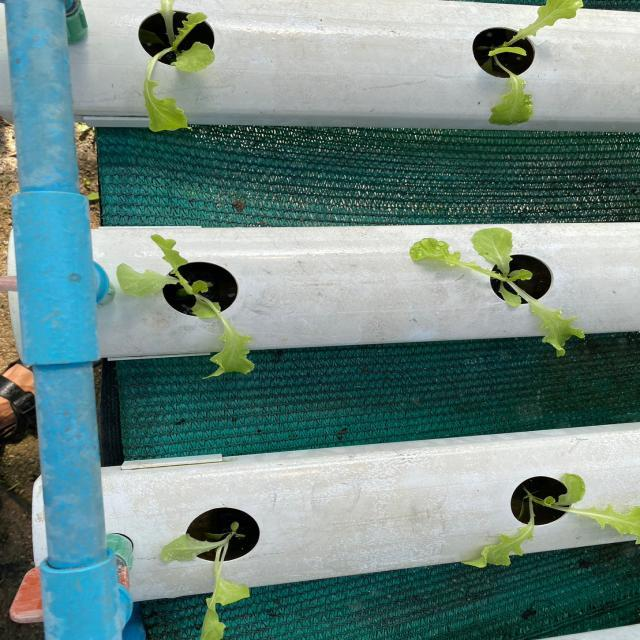Lettuce-Not-Ready-to-Harvest: (403, 227, 588, 357), (115, 230, 261, 378), (453, 465, 640, 572), (485, 0, 584, 130), (156, 519, 252, 640), (145, 0, 217, 138)
